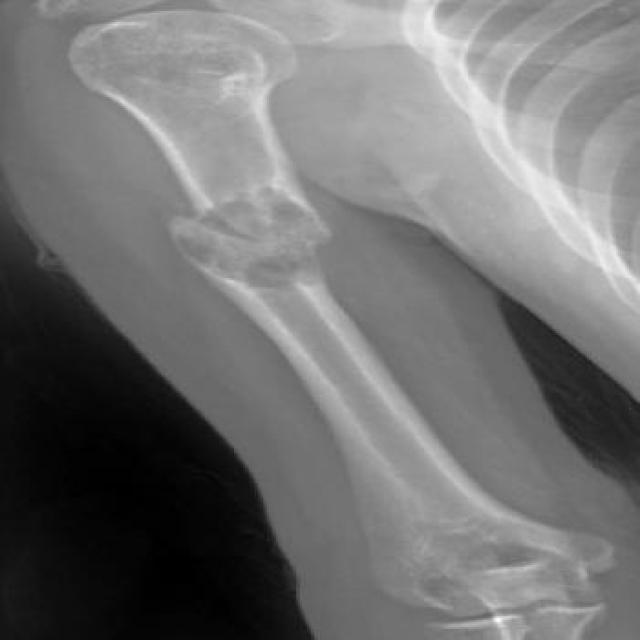Fracture: (141, 187, 367, 298)
